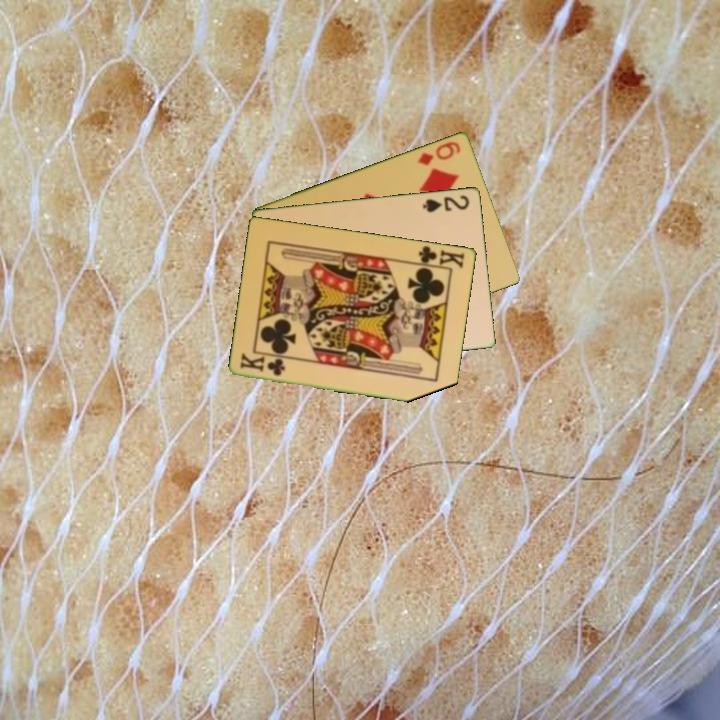2s: (419, 191, 472, 215)
6d: (414, 137, 464, 168)
Kc: (412, 242, 468, 271), (237, 351, 288, 378)
